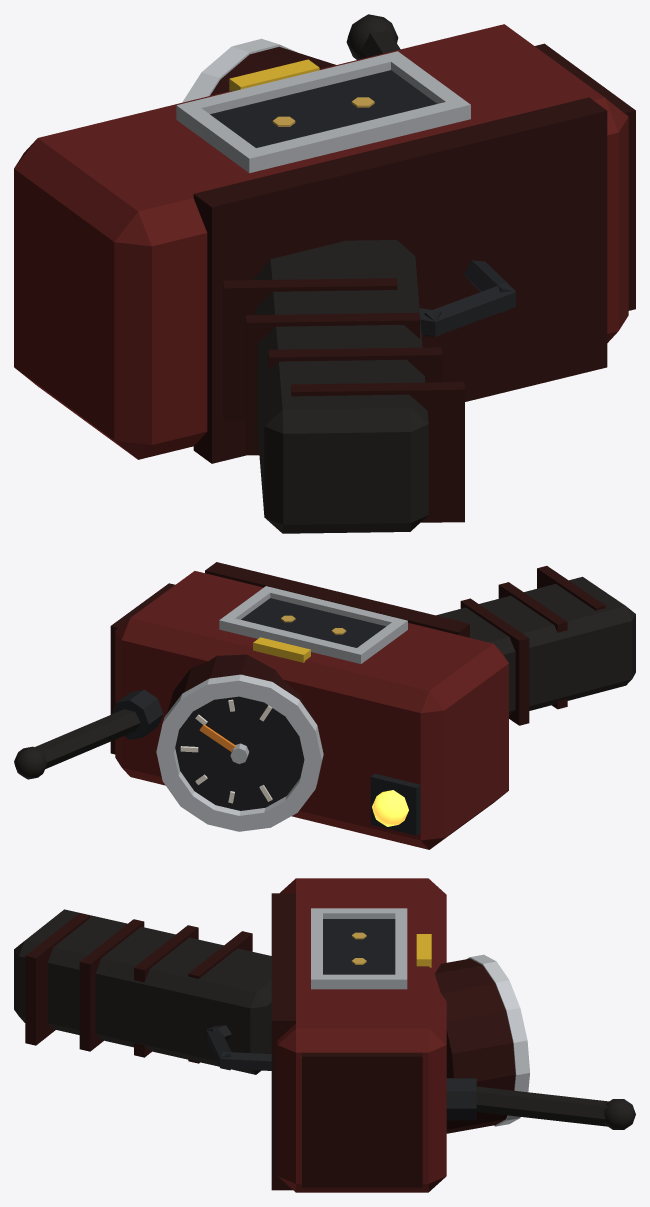
File: receiver_queen.glb
The picture shows the model from 3 angles, top to bottom: view 1: azimuth 30°, elevation 25°; view 2: azimuth 150°, elevation 25°; view 3: azimuth 270°, elevation 25°; orthographic projection. The views are drawn at different scales.
Parts seen in each view (by area): view 1: receiver_queen; view 2: receiver_queen; view 3: receiver_queen.
Boxes of the visible parts, x1,y1,x2,y2 form: receiver_queen: (14, 14, 635, 533); receiver_queen: (14, 562, 635, 849); receiver_queen: (14, 878, 635, 1192).
Bounding box in the file's own units: 0.1384 × 0.0645 × 0.2063.
